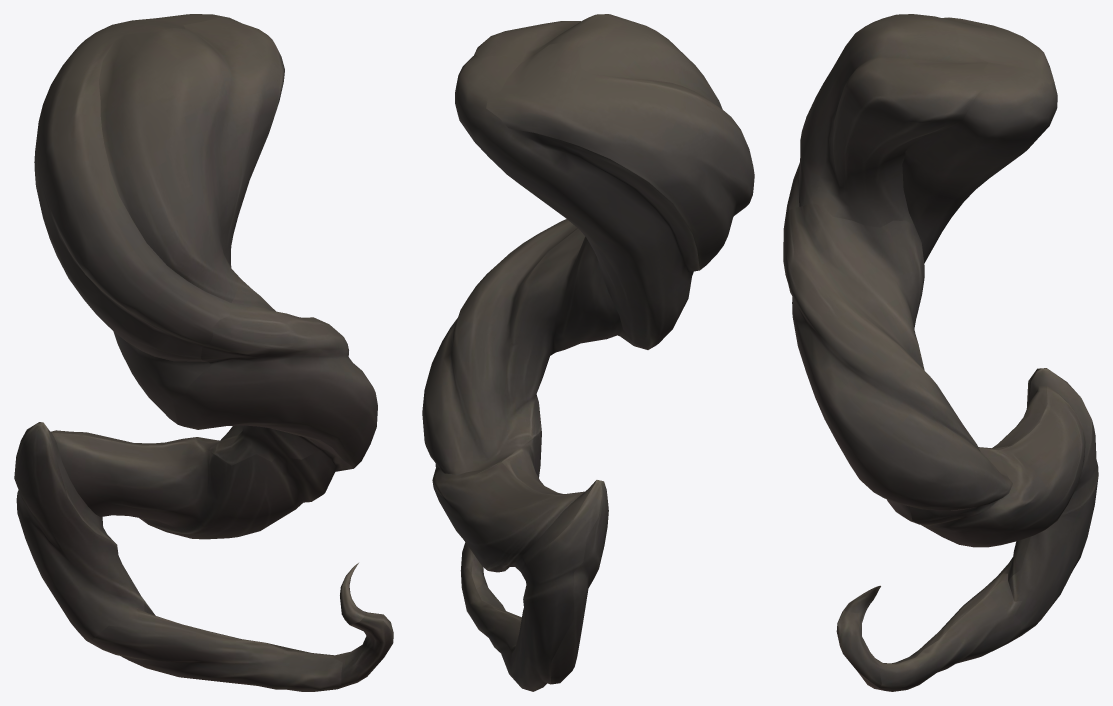
The picture shows the model from 3 angles, left to right: view 1: azimuth 30°, elevation 25°; view 2: azimuth 150°, elevation 25°; view 3: azimuth 270°, elevation 25°; orthographic projection. The views are drawn at different scales.
Parts seen in each view (by area): view 1: SM_KC_ROOT_01_C; view 2: SM_KC_ROOT_01_C; view 3: SM_KC_ROOT_01_C.
Part boxes in pixels (bbox=[...]): SM_KC_ROOT_01_C: bbox=[14, 14, 393, 691]; SM_KC_ROOT_01_C: bbox=[422, 14, 754, 691]; SM_KC_ROOT_01_C: bbox=[783, 14, 1098, 691].
Bounding box in the file's own units: 4.57 × 9.44 × 4.43.
1 material, 1 textured.
